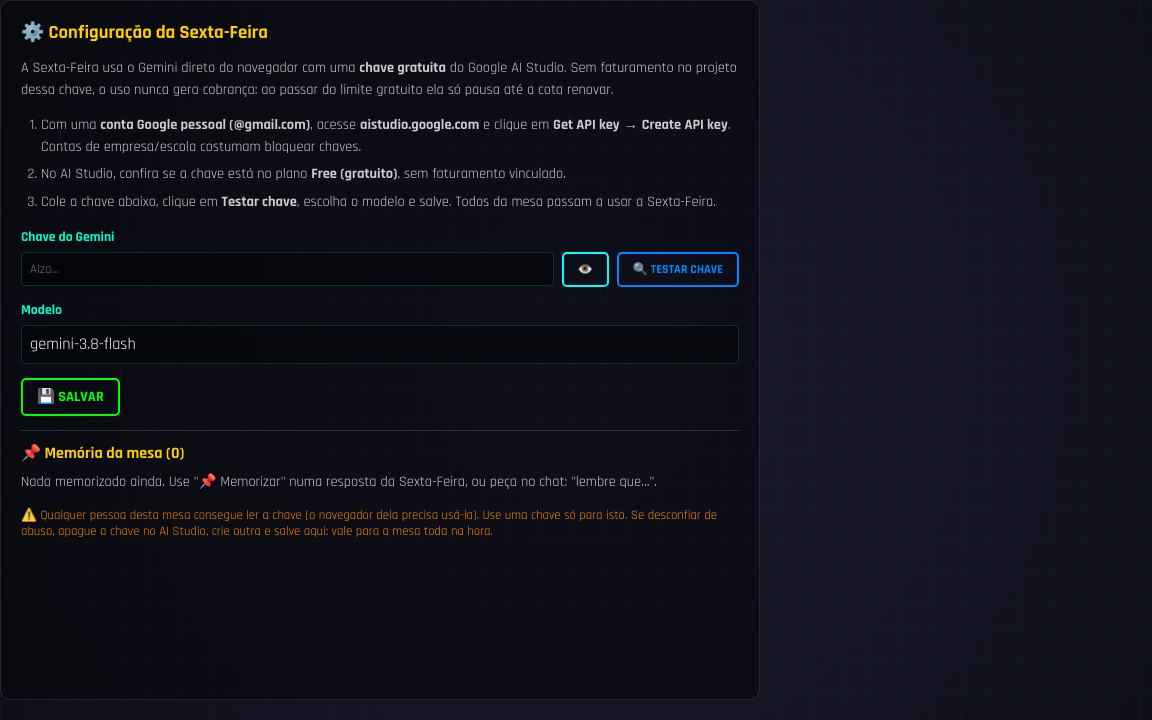
Scenario: AIConfig › erro sem mensagem usa texto padrao
Type "K" into the password field labelled "Chave do Gemini 👁️ 🔍 Testar chave". click: (287, 269)
box: [21,252,554,286]
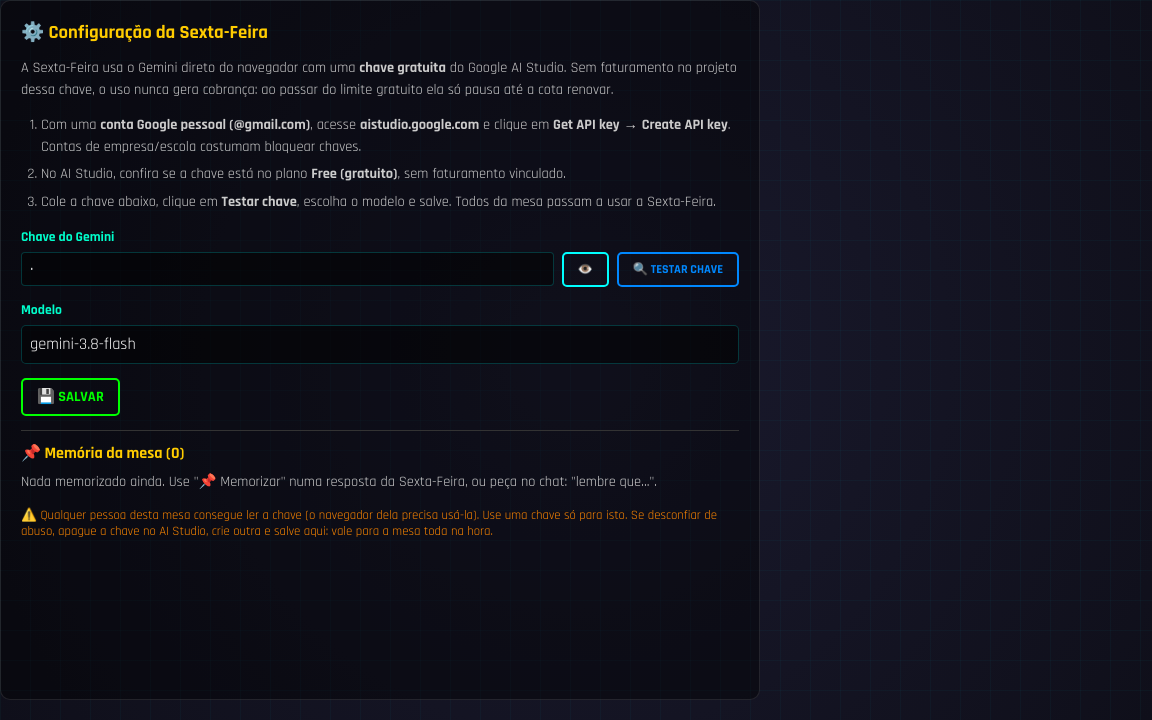
Click the button "🔍 Testar chave". click: (678, 269)
box: [617,252,739,287]
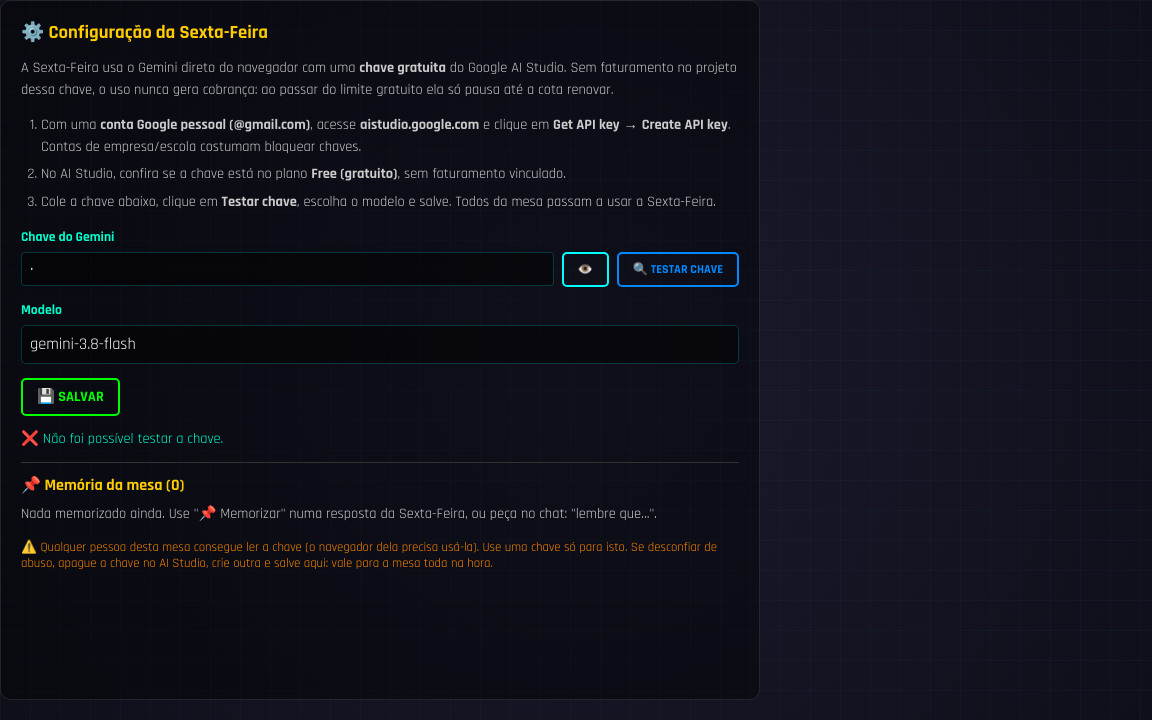
Expected: the text "❌ Não foi possível testar a chave." is shown, [21,430,223,448]
